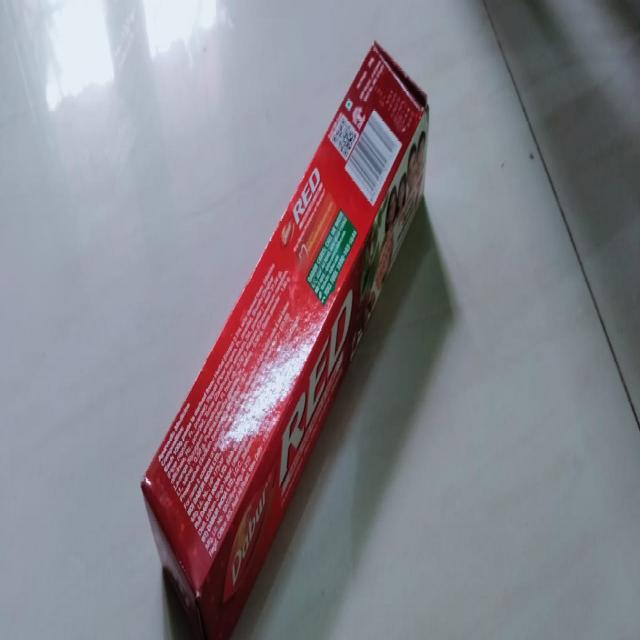tooth paste: (138, 39, 440, 640)
